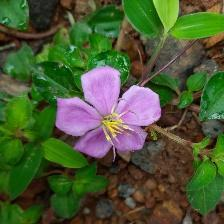malabar melastome: (55, 65, 164, 159)
